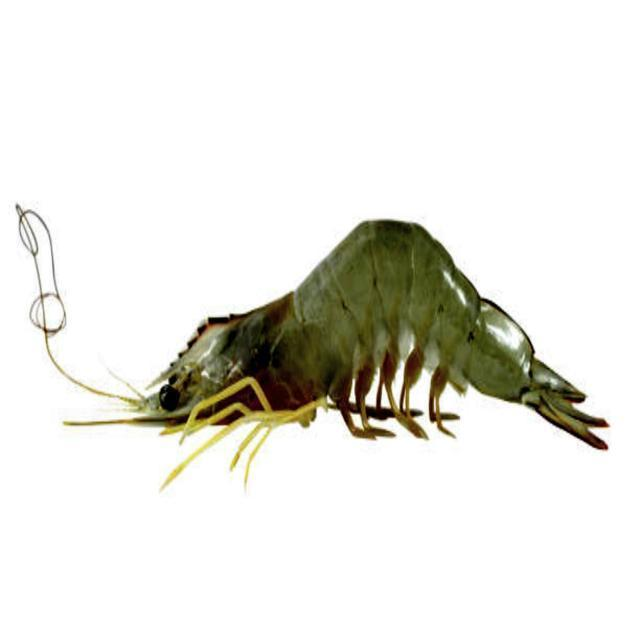shrimp: (140, 220, 605, 448)
